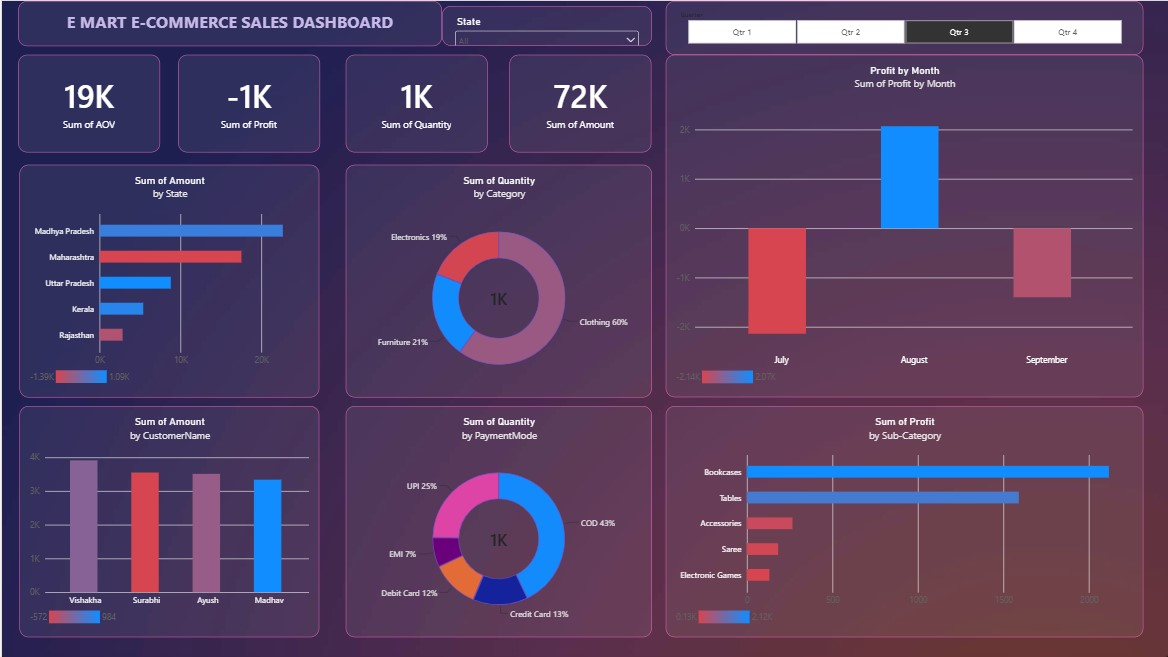

Layout of this report page (visuals, bound fields, positions):
{"tool":"powerbi","page":{"name":"Page 1","canvas":[1920,1080],"ordinal":0},"visuals":[{"type":"textbox","box":[26.8,0,697.8,74.1],"z":0},{"type":"columnChart","title":"Profit by Month","fields":{"Category":["Orders.Order Date.Variation.Date Hierarchy.Month"],"Y":["Sum(Details.Profit)"]},"box":[1093,88.5,786.3,564],"z":1000},{"type":"barChart","fields":{"Category":["Details.Sub-Category"],"Y":["Sum(Details.Profit)"]},"box":[1093,666.9,786.3,380.8],"z":2000},{"type":"donutChart","fields":{"Category":["Details.Category"],"Y":["Sum(Details.Quantity)"]},"box":[566,269.6,504.3,382.8],"z":3000},{"type":"donutChart","fields":{"Series":["Details.PaymentMode"],"Y":["Sum(Details.Quantity)"]},"box":[566,666.9,504.3,380.8],"z":4000},{"type":"cardVisual","fields":{"Data":["Sum(Details.Amount)"]},"box":[835.7,89.3,233.9,160.7],"z":5000},{"type":"cardVisual","fields":{"Data":["Sum(Details.Quantity)"]},"box":[566,88.5,233.9,160.7],"z":6000},{"type":"cardVisual","fields":{"Data":["Sum(Details.Profit)"]},"box":[290.2,88.5,233.9,160.7],"z":7000},{"type":"cardVisual","fields":{"Data":["Sum(Details.AOV)"]},"box":[26.8,89.3,233.9,160.7],"z":8000},{"type":"barChart","fields":{"Category":["Orders.State"],"Y":["Sum(Details.Amount)"]},"box":[28.8,269.6,494,382.8],"z":8001},{"type":"columnChart","fields":{"Category":["Orders.CustomerName"],"Y":["Sum(Details.Amount)"]},"box":[28.8,666.9,494,380.8],"z":8002},{"type":"slicer","fields":{"Values":["Orders.Order Date.Variation.Date Hierarchy.Quarter"]},"box":[1093,0,786.3,88.5],"z":8003},{"type":"slicer","fields":{"Values":["Orders.State"]},"box":[724.5,8.2,345.8,65.9],"z":8004}]}

Visuals, with their boxes in screenshot pixels (x1, y1, x2, y2), scaled from the page's 1920x1080 canvas onto the 1168x657 screenshot:
textbox: (16,0,441,45)
"Profit by Month" columnChart: (665,54,1143,397)
barChart - Details.Sub-Category x Sum(Details.Profit): (665,406,1143,637)
donutChart - Details.Category x Sum(Details.Quantity): (344,164,651,397)
donutChart - Details.PaymentMode x Sum(Details.Quantity): (344,406,651,637)
cardVisual - Sum(Details.Amount): (508,54,651,152)
cardVisual - Sum(Details.Quantity): (344,54,487,152)
cardVisual - Sum(Details.Profit): (177,54,319,152)
cardVisual - Sum(Details.AOV): (16,54,159,152)
barChart - Orders.State x Sum(Details.Amount): (18,164,318,397)
columnChart - Orders.CustomerName x Sum(Details.Amount): (18,406,318,637)
slicer - Orders.Order Date.Variation.Date Hierarchy.Quarter: (665,0,1143,54)
slicer - Orders.State: (441,5,651,45)
